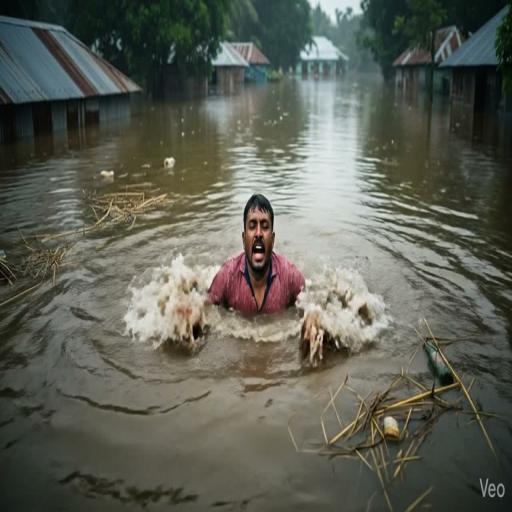human: (205, 191, 321, 358)
